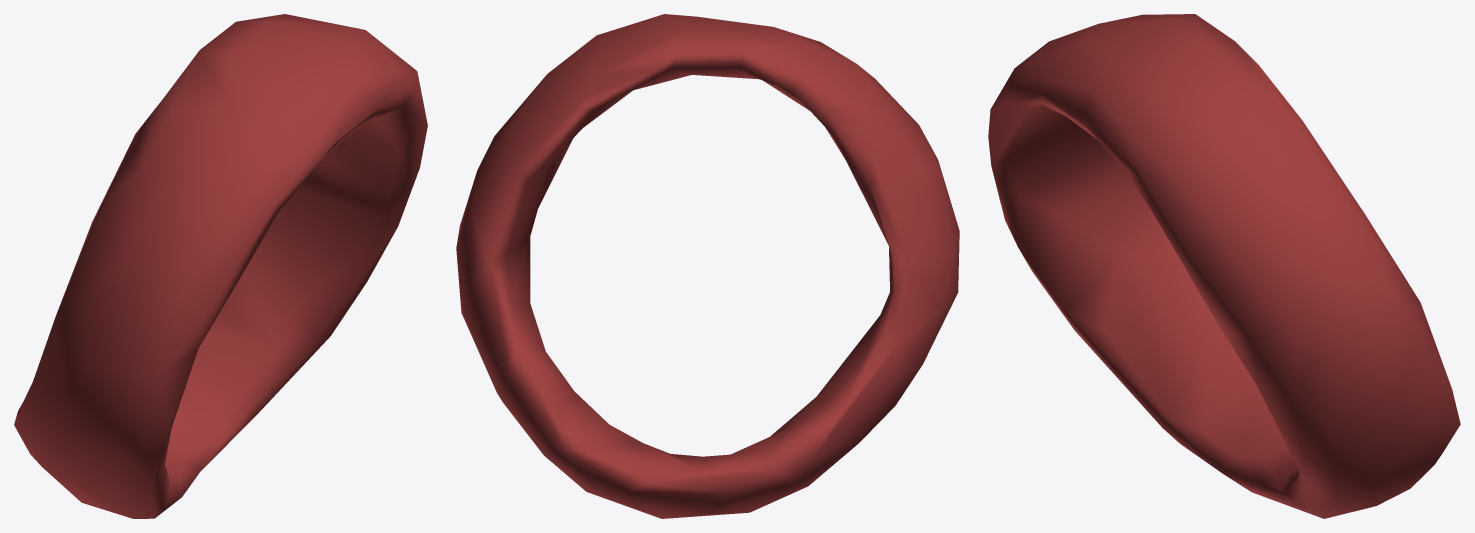
The model's file is common-tendinous-ring-l.glb.
3 renders of one model, left to right at view 1: azimuth 30°, elevation 25°; view 2: azimuth 150°, elevation 25°; view 3: azimuth 270°, elevation 25°, orthographic. The views are drawn at different scales.
Parts seen in each view (by area): view 1: Common tendinous ring.l; view 2: Common tendinous ring.l; view 3: Common tendinous ring.l.
Part boxes in pixels (box(x1,y1,x2,y2)): Common tendinous ring.l: box(14, 14, 427, 518); Common tendinous ring.l: box(456, 14, 959, 518); Common tendinous ring.l: box(988, 14, 1460, 518).
Bounding box in the file's own units: 0.00626 × 0.0067 × 0.00584.
